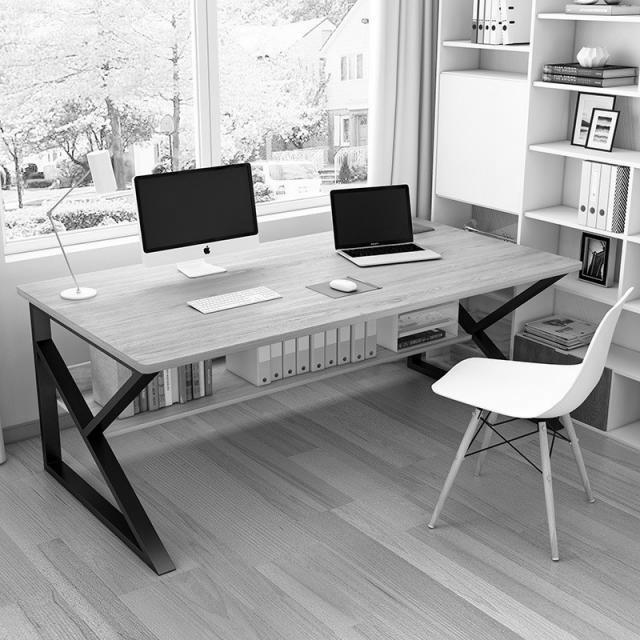table: (15, 192, 592, 375)
